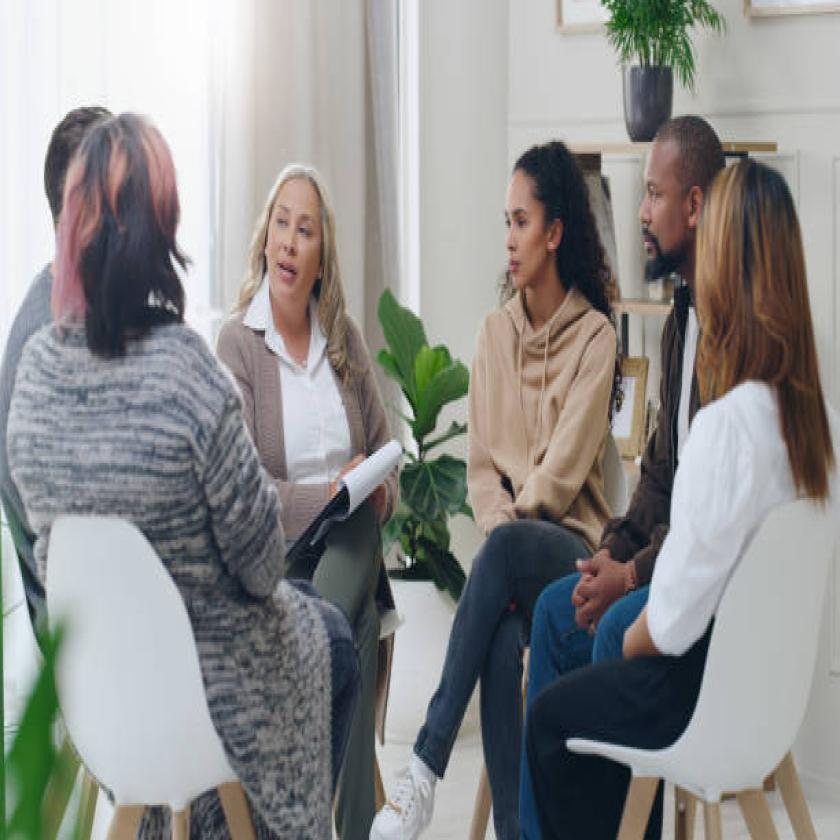Sin_casco: (487, 142, 589, 309), (636, 100, 718, 296), (260, 146, 341, 330)
